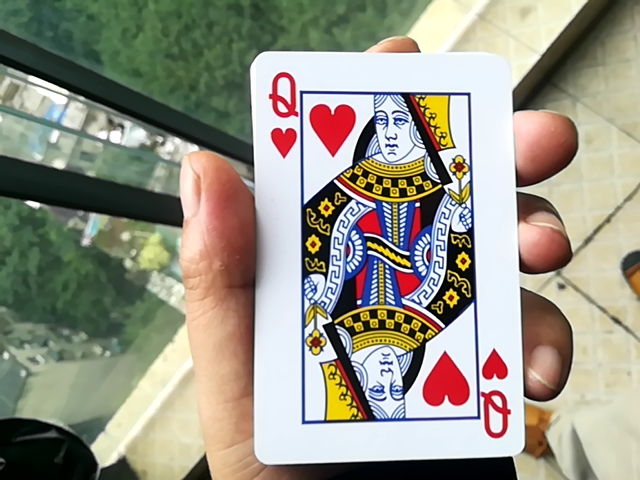hx q: (237, 39, 532, 472)
